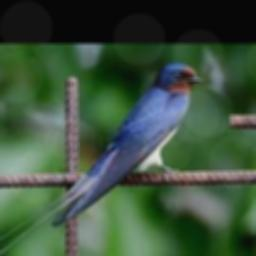Swallow: (0, 63, 203, 255)
